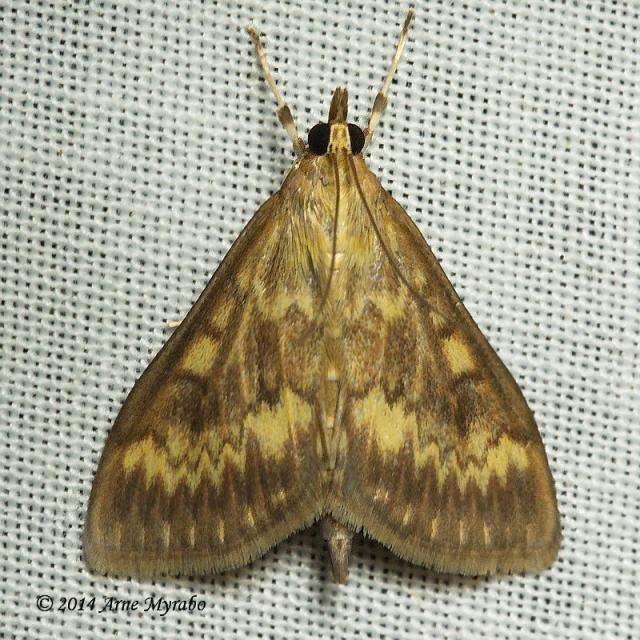cornborer-Adult-: (71, 5, 582, 588)
